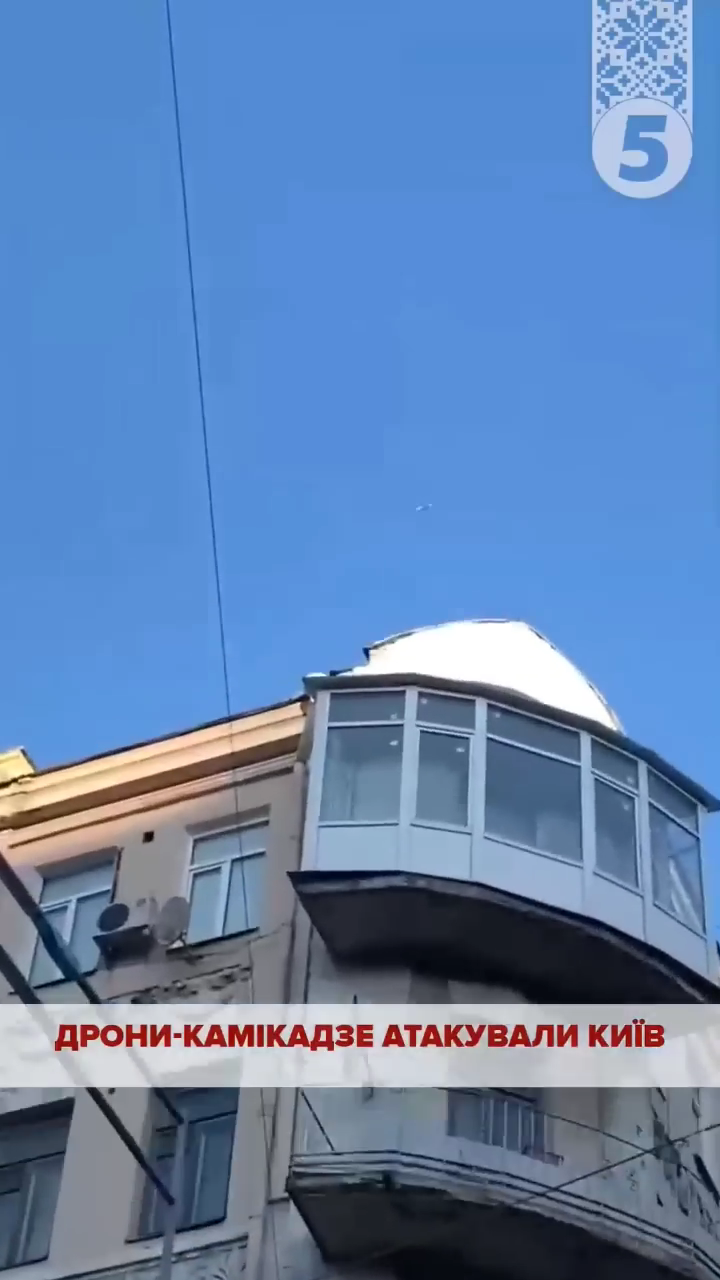shahed: (413, 499, 434, 514)
